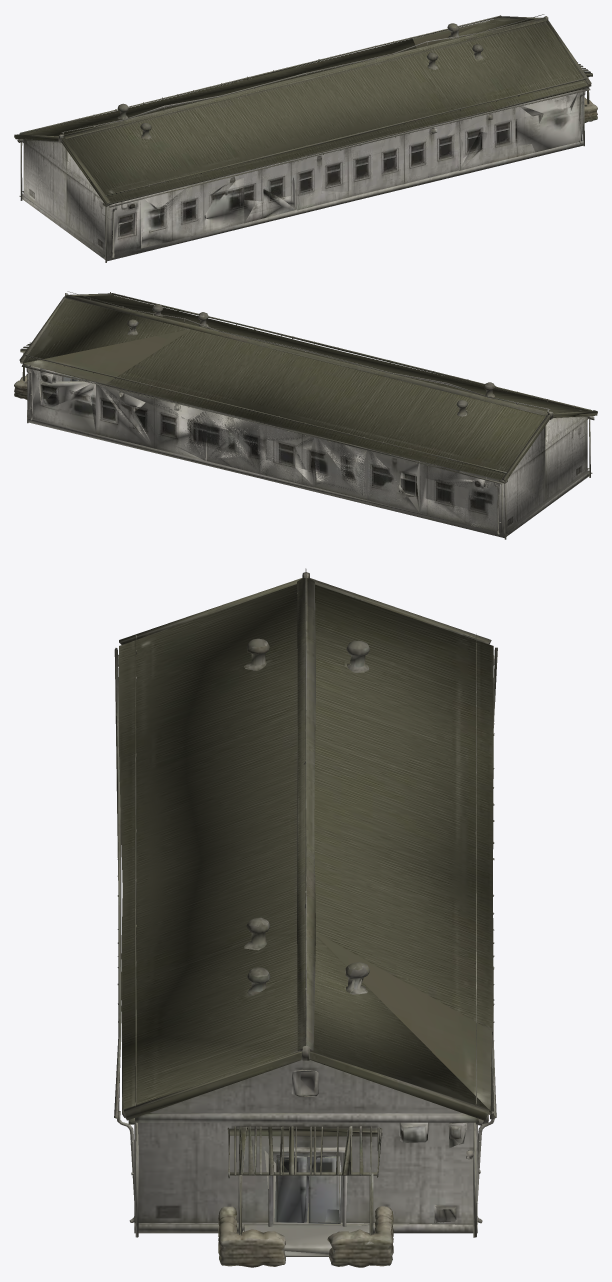
Rendered from barracks.glb.
3 views of the same model, one above another, from view 1: azimuth 30°, elevation 25°; view 2: azimuth 150°, elevation 25°; view 3: azimuth 270°, elevation 25° (orthographic). The views are drawn at different scales.
Visible parts, largest first — view 1: hull; view 2: hull; view 3: hull.
Part boxes in pixels (x1,y1,x2,y2): hull: (14, 14, 597, 262); hull: (14, 291, 597, 539); hull: (114, 568, 497, 1267).
Bounding box in the file's own units: 13.44 × 2.53 × 4.32.
3 materials, 3 textured.
